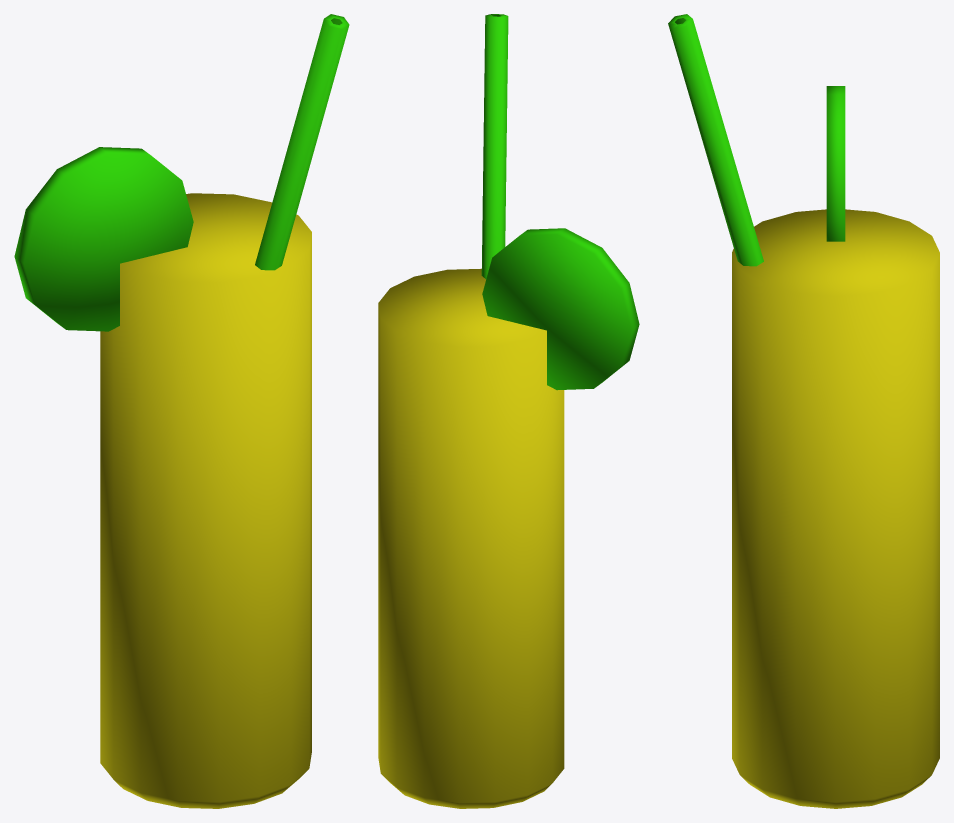
File: BHP_MOD_DRI_Mojito.fbx
3 renders of one model, left to right at view 1: azimuth 30°, elevation 25°; view 2: azimuth 150°, elevation 25°; view 3: azimuth 270°, elevation 25°, orthographic. The views are drawn at different scales.
Parts seen in each view (by area): view 1: BHP_MOD_Mojito; view 2: BHP_MOD_Mojito; view 3: BHP_MOD_Mojito.
Part boxes in pixels (bbox=[...]): BHP_MOD_Mojito: bbox=[14, 14, 349, 808]; BHP_MOD_Mojito: bbox=[378, 14, 639, 808]; BHP_MOD_Mojito: bbox=[668, 14, 939, 808].
Size of the model in its own units: 0.1297 by 0.3529 by 0.1122.
